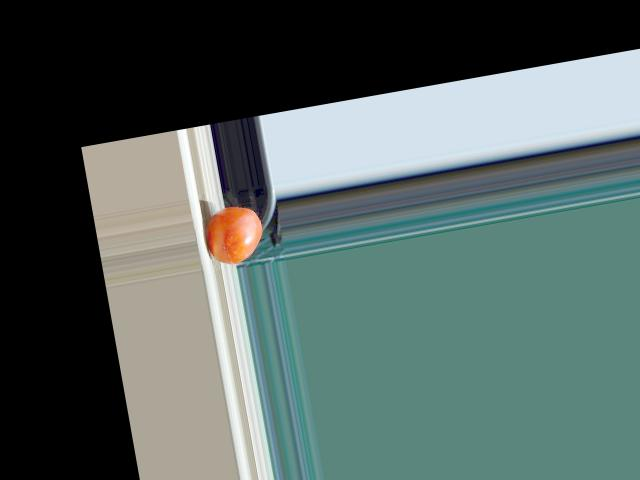tomato: (203, 202, 267, 267)
